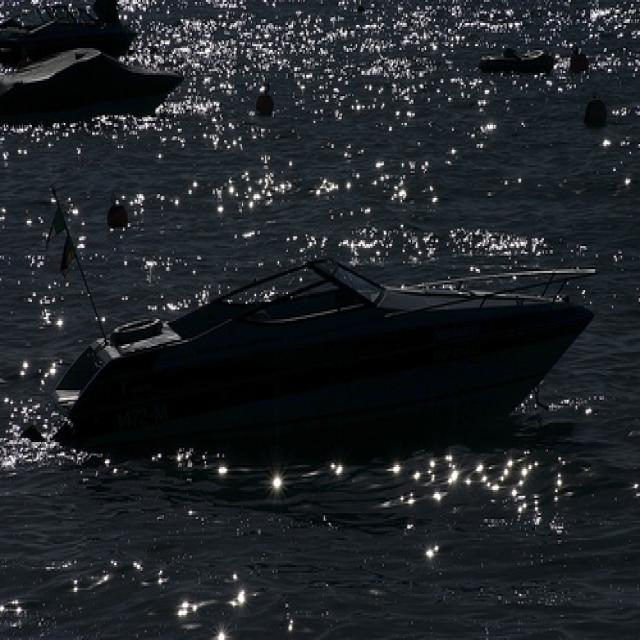Boat: (36, 229, 603, 551), (0, 56, 191, 121)
